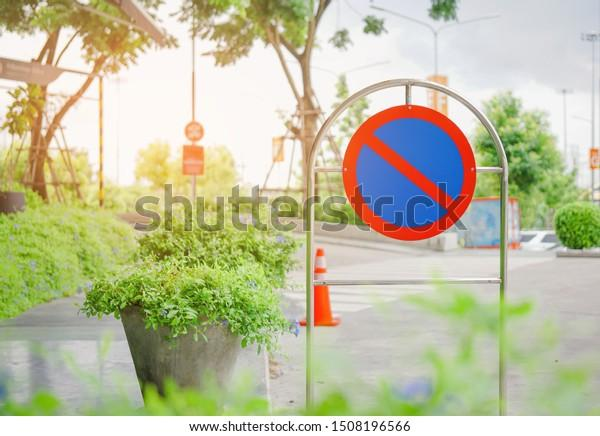No Stopping: (335, 92, 487, 257)
